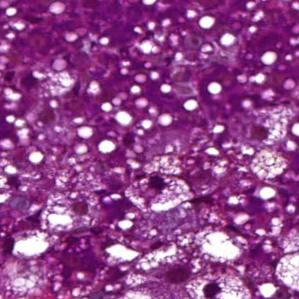ballooning: (121, 170, 198, 214), (246, 149, 289, 182)
